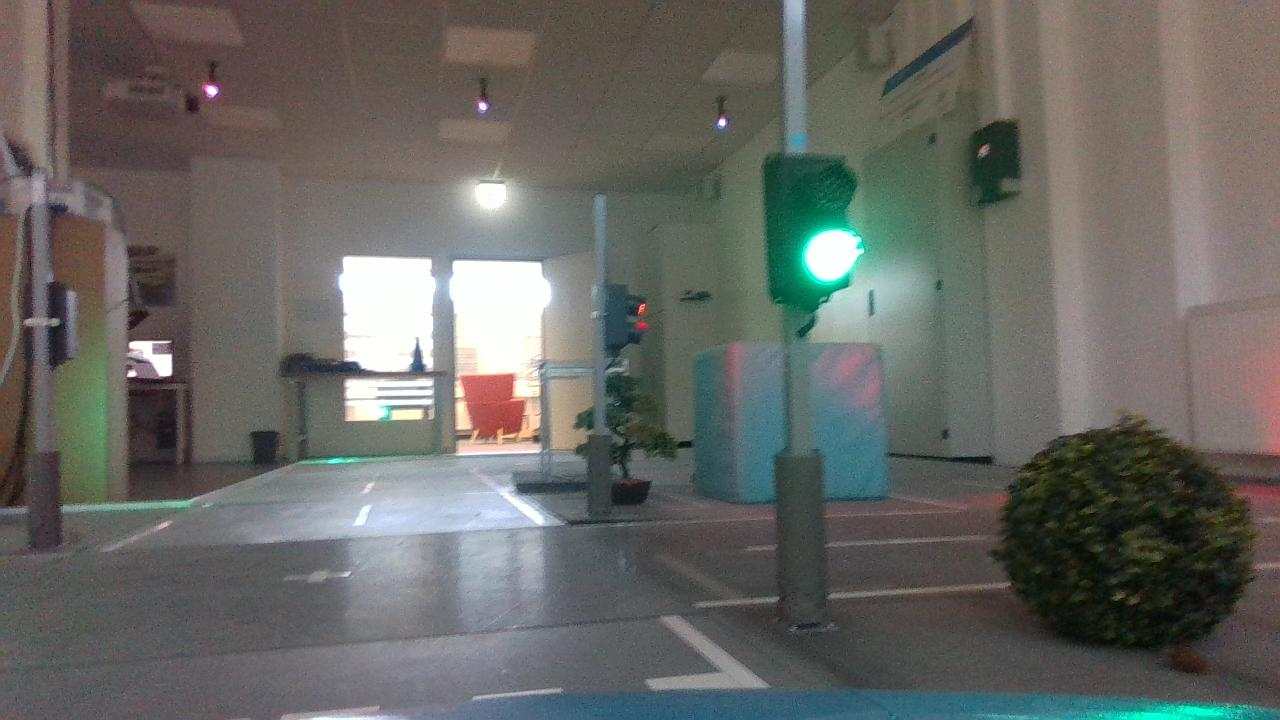traffic_light_green: (752, 145, 866, 311)
